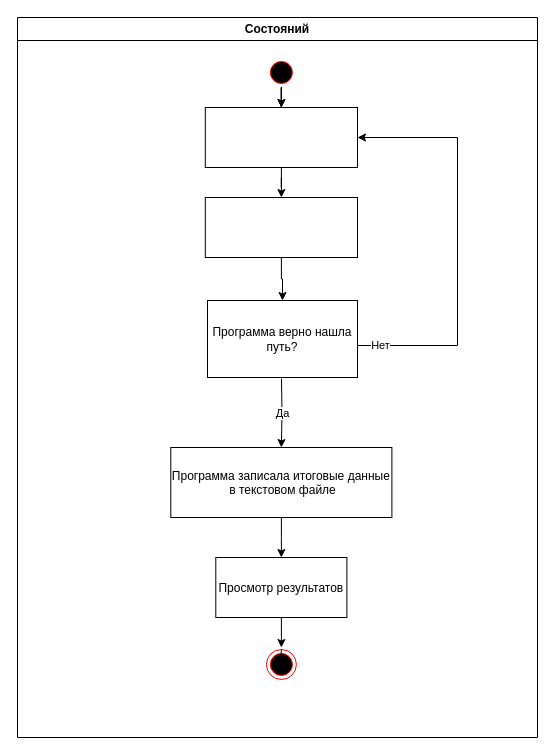
Image size: 555x755. Some labels were removed from this diagram. The centre of each missing label's shape, as x and y in pixels:
"Нахождение критического пути" belongs at point (281, 227).
"Проверка считывание данных с файла" belongs at point (281, 137).
